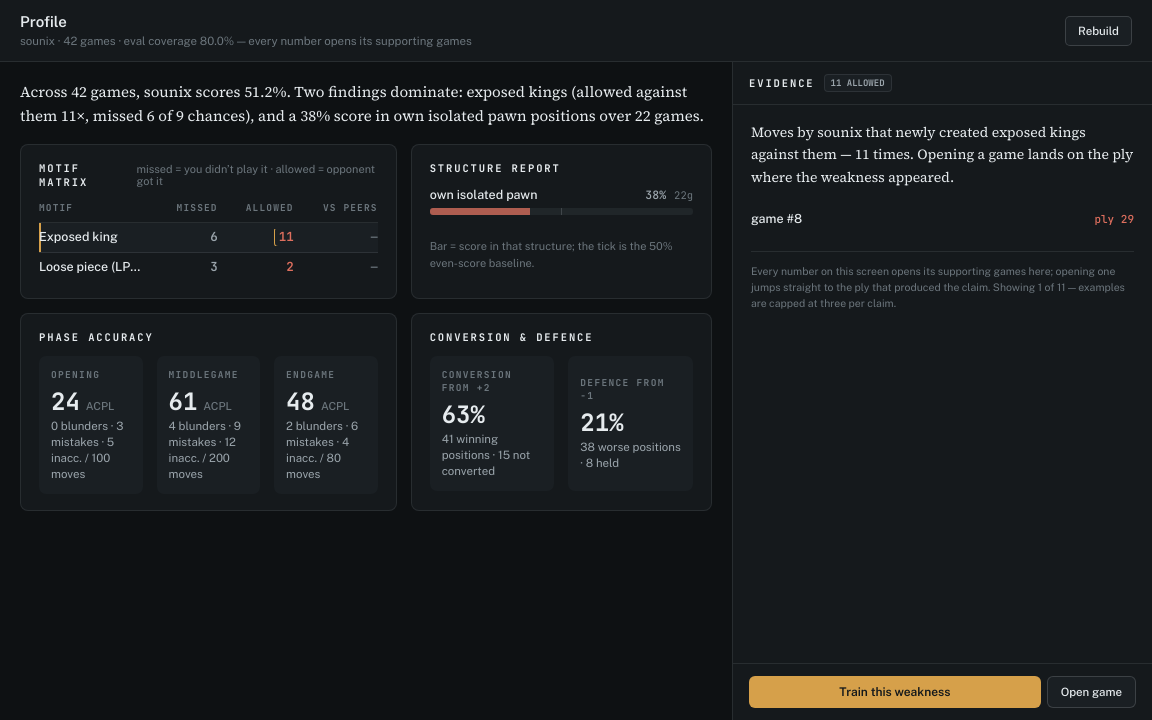
Scenario: Profile — every number is a control › clicking a phase tile retargets the aside (honest empty example list)
What coordinates should you click on to do the following:
click the text "MIDDLEGAME"
I would click on:
 (208, 374)
Its box is [168, 368, 248, 381].
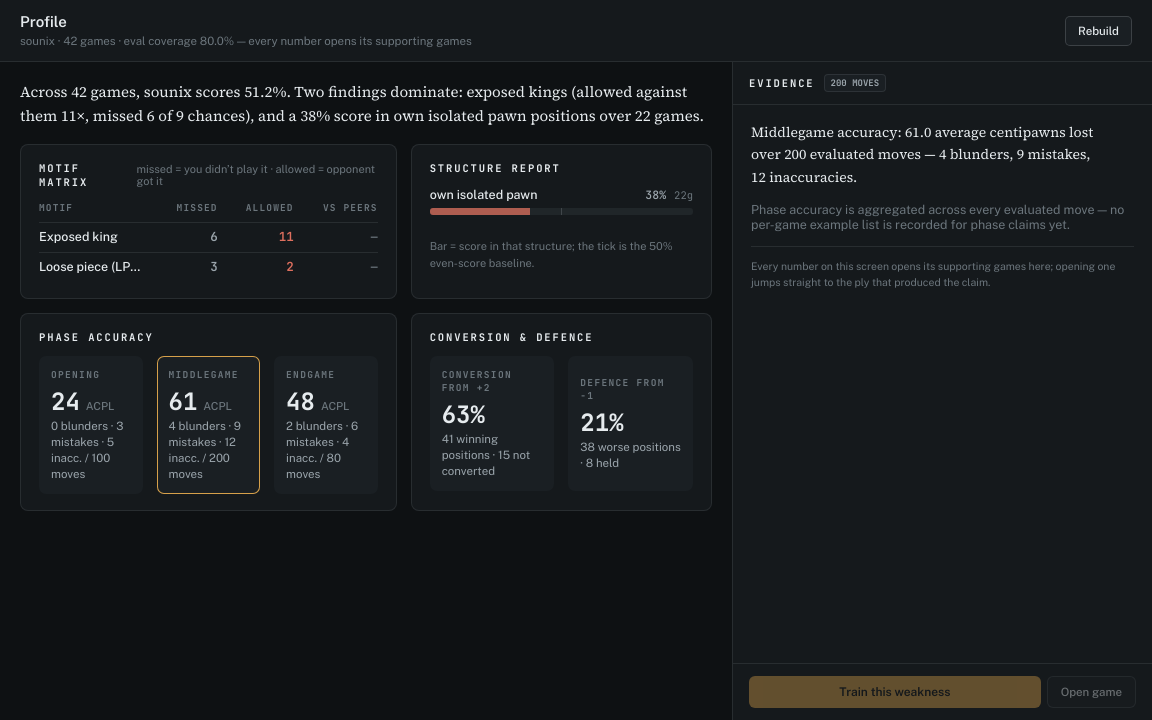
Result: the text "200 MOVES" is shown at [824, 74, 886, 92]
Result: the text "no per-game example list" is shown at [751, 202, 1124, 232]
